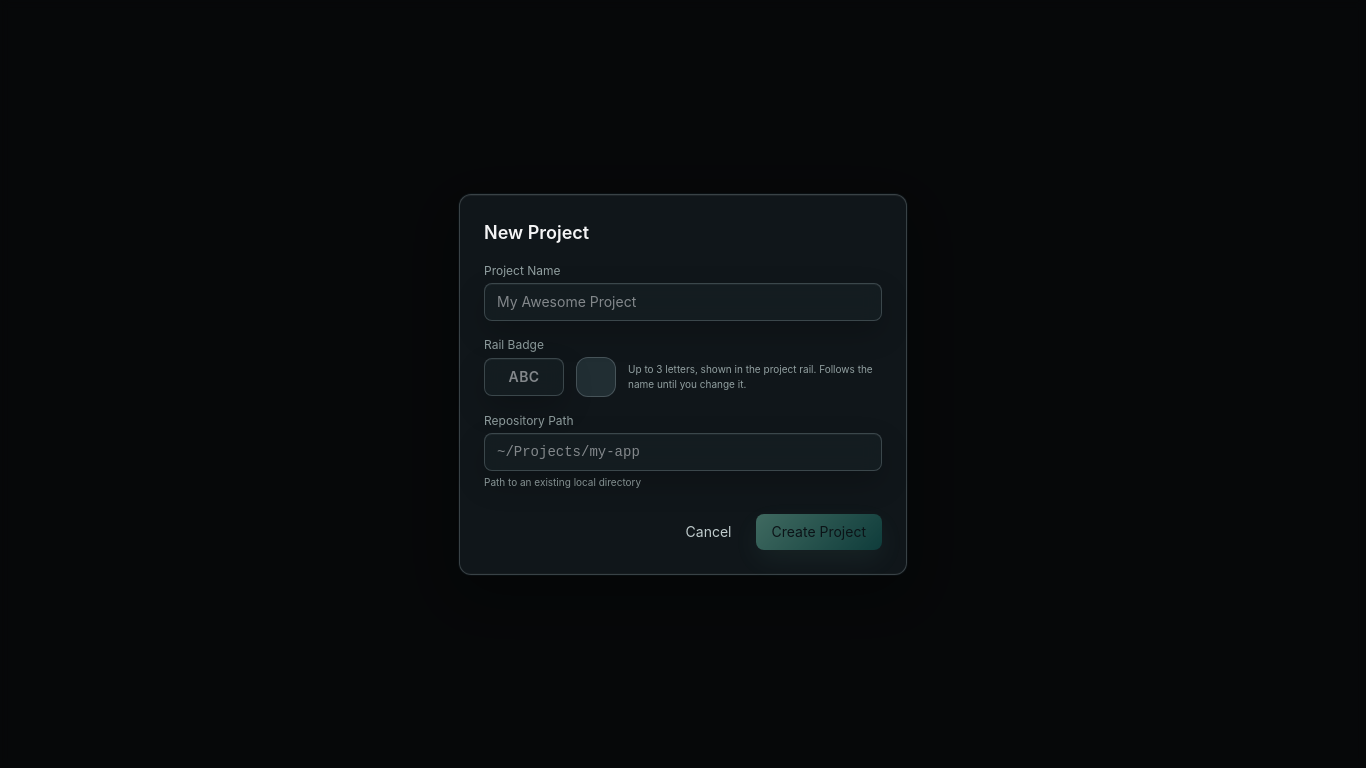
Test case: ProjectModal › derives the badge from the name as you type
Step 1. Type "United States of America" into the field with placeholder "My Awesome Project" → (683, 302), box [484, 282, 882, 320]
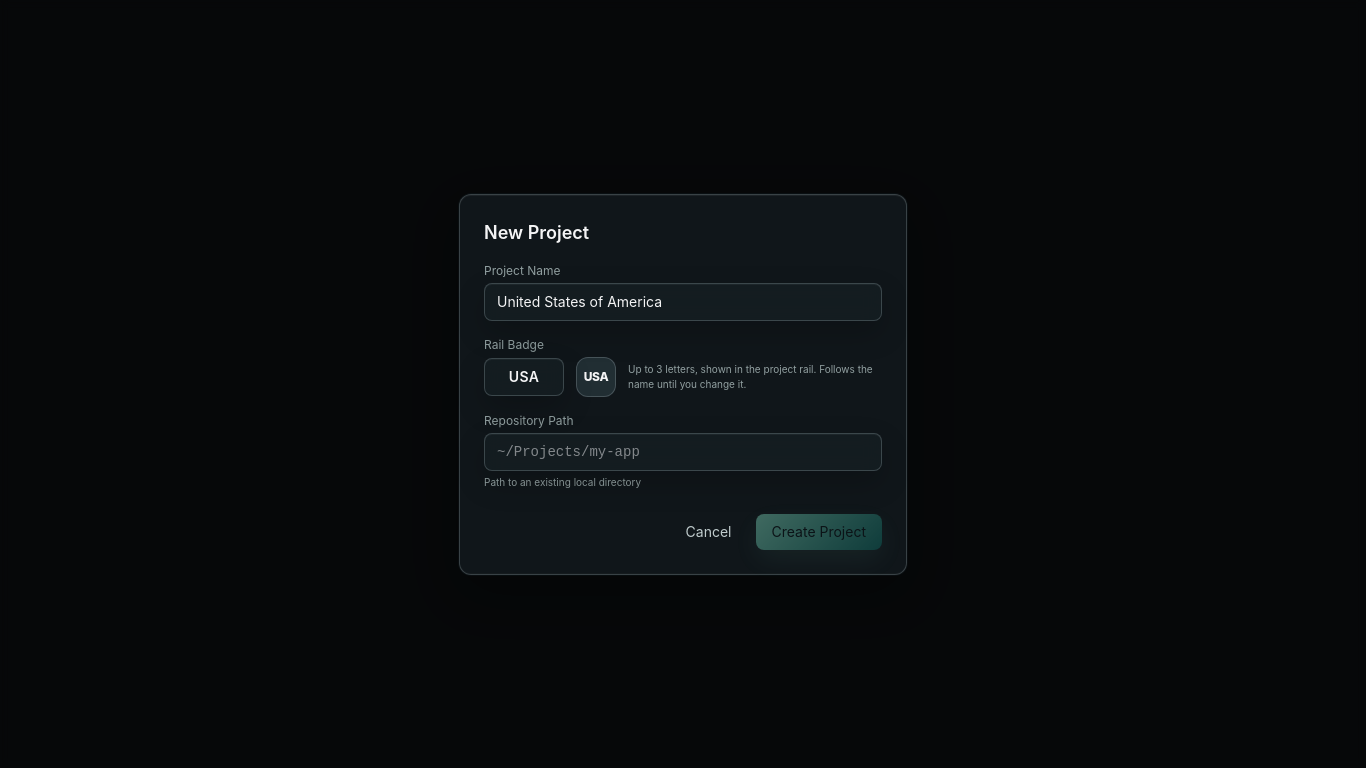
Check: the field labelled "Rail Badge" holds "USA", box [484, 358, 564, 396]
